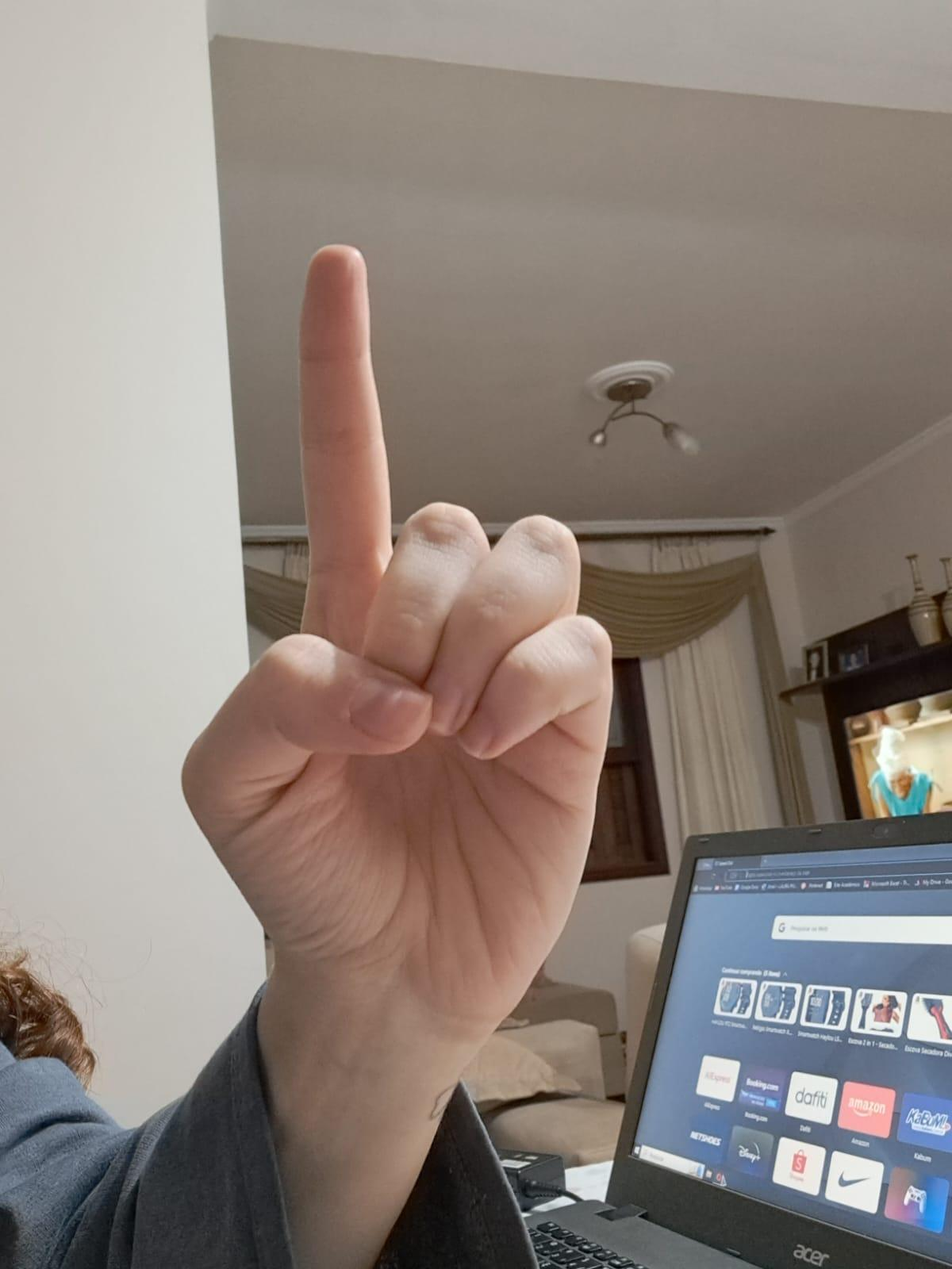D2: (171, 206, 647, 1043)
